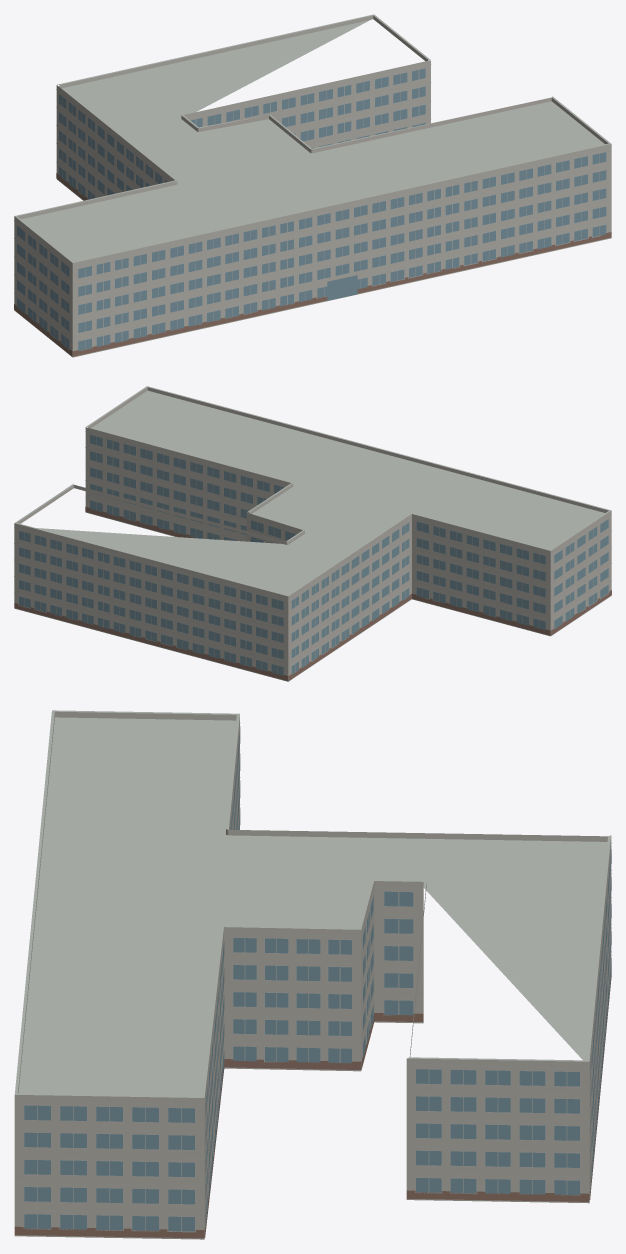
The model's file is public-9f313a74-8a2f-48c0-a978-adb20fec12b4.glb.
The picture shows the model from 3 angles, top to bottom: view 1: azimuth 30°, elevation 25°; view 2: azimuth 150°, elevation 25°; view 3: azimuth 270°, elevation 25°; orthographic projection. The views are drawn at different scales.
Visible parts, largest first — view 1: public-9f313a74-8a2f-48c0-a978-adb20fec12b4; view 2: public-9f313a74-8a2f-48c0-a978-adb20fec12b4; view 3: public-9f313a74-8a2f-48c0-a978-adb20fec12b4.
Boxes of the visible parts, x1,y1,x2,y2 form: public-9f313a74-8a2f-48c0-a978-adb20fec12b4: [14, 14, 611, 357]; public-9f313a74-8a2f-48c0-a978-adb20fec12b4: [14, 386, 611, 681]; public-9f313a74-8a2f-48c0-a978-adb20fec12b4: [14, 710, 611, 1239].
Size of the model in its own units: 89.77 by 15.25 by 58.43.
